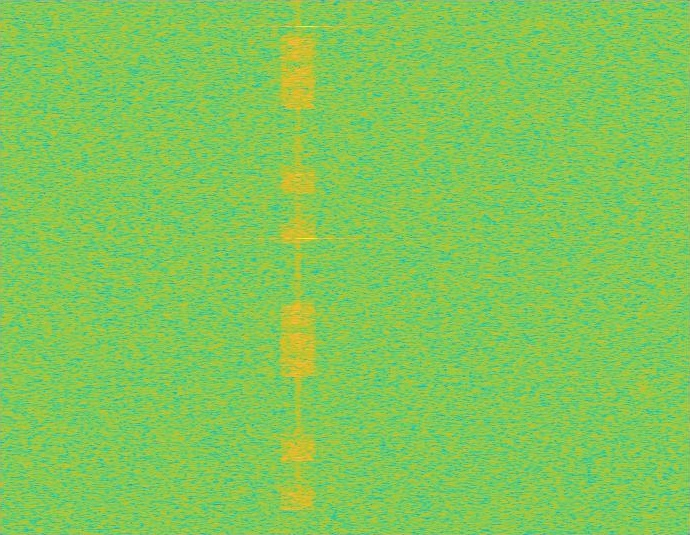DSSS: (296, 0, 300, 534)
LTE: (281, 0, 315, 534)
Radar: (301, 0, 314, 534)
